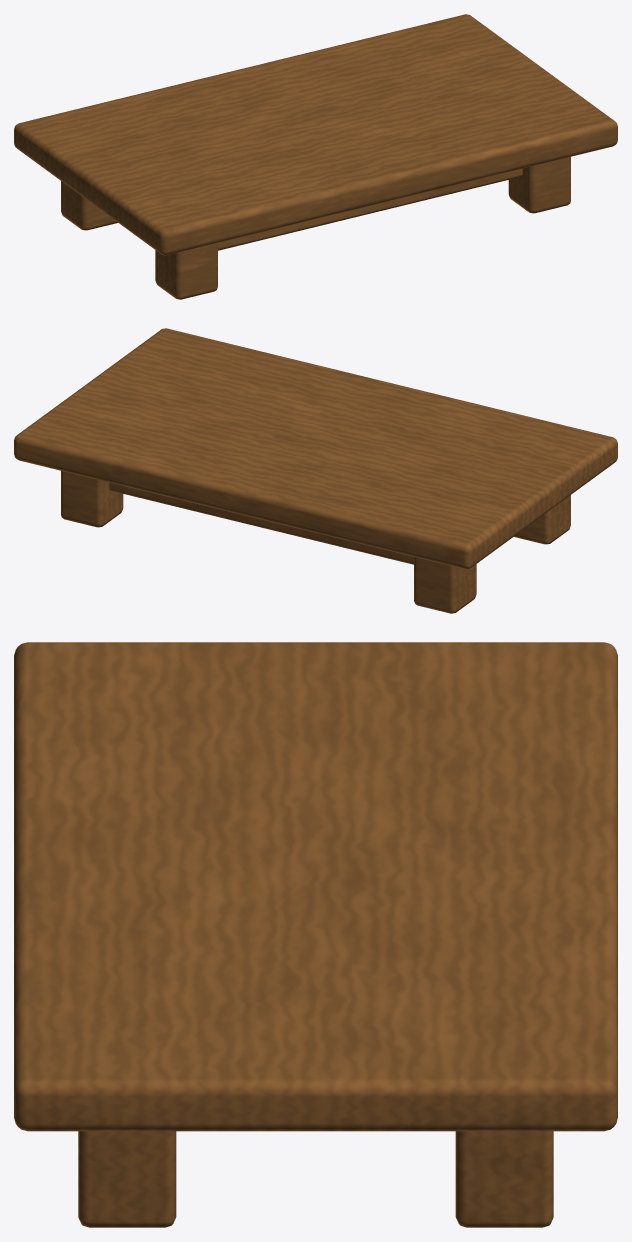
File: Furn_LowTable.fbx
The picture shows the model from 3 angles, top to bottom: view 1: azimuth 30°, elevation 25°; view 2: azimuth 150°, elevation 25°; view 3: azimuth 270°, elevation 25°; orthographic projection. The views are drawn at different scales.
Visible parts, largest first — view 1: Furn_LowTable_Mesh; view 2: Furn_LowTable_Mesh; view 3: Furn_LowTable_Mesh.
Part boxes in pixels (box(x1,y1,x2,y2)): Furn_LowTable_Mesh: box(14, 14, 617, 299); Furn_LowTable_Mesh: box(14, 328, 617, 613); Furn_LowTable_Mesh: box(14, 642, 617, 1227).
Size of the model in its own units: 1.4 by 0.26 by 0.8.
Materials: 1 (1 with a texture image).
